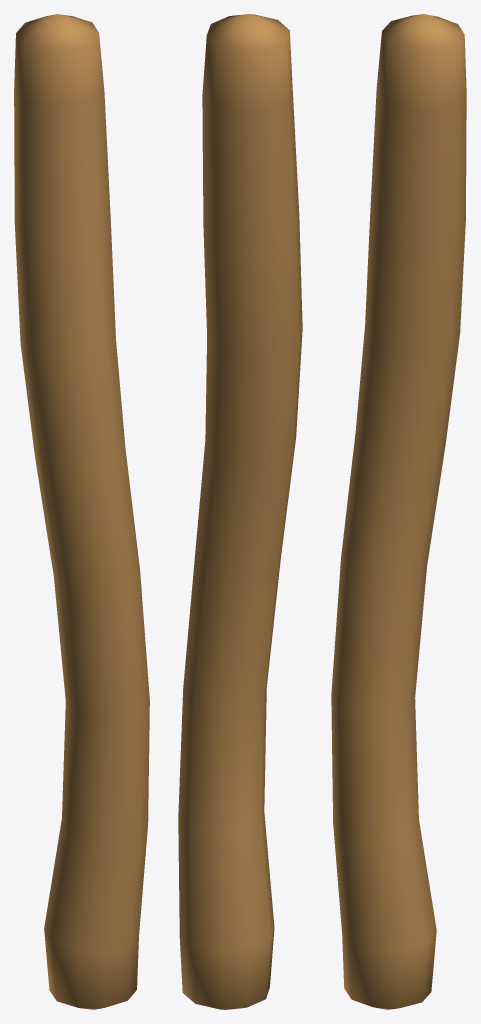
Rendered from tibia_T2_right_leg.obj.
3 renders of one model, left to right at view 1: azimuth 90°, elevation 25°; view 2: azimuth 210°, elevation 25°; view 3: azimuth 270°, elevation 25°, orthographic.
Size of the model in its own units: 0.00742 by 0.0741 by 0.00914.
